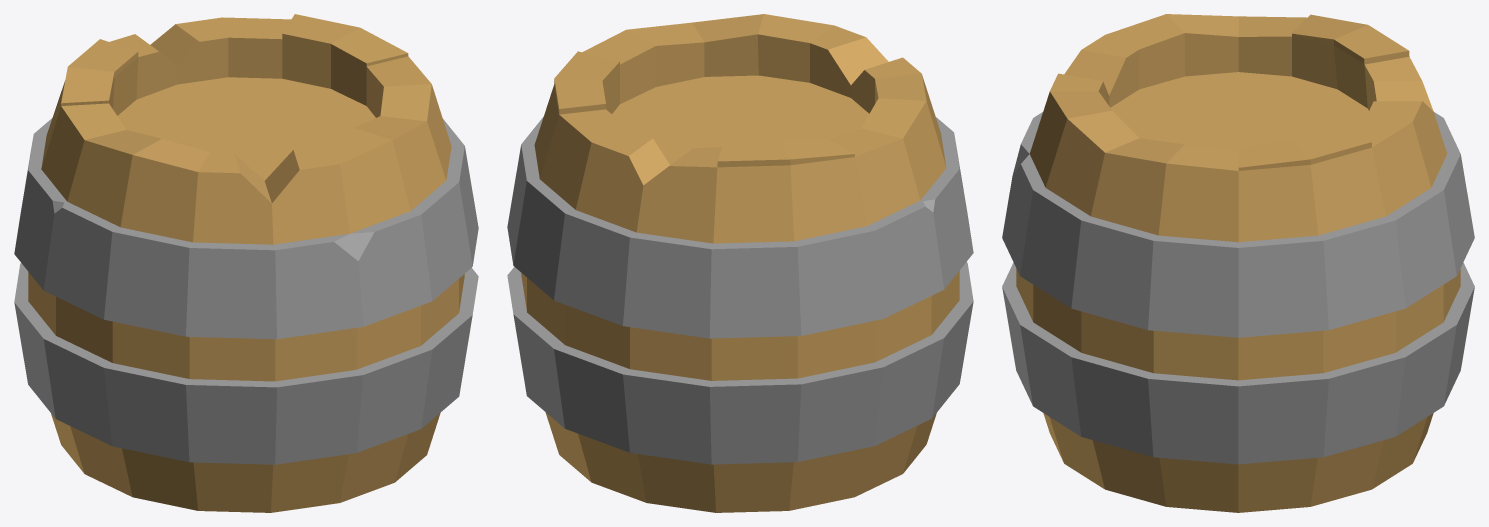
File: barrel.fbx
The picture shows the model from 3 angles, left to right: view 1: azimuth 30°, elevation 25°; view 2: azimuth 150°, elevation 25°; view 3: azimuth 270°, elevation 25°; orthographic projection.
Parts seen in each view (by area): view 1: Cylinder.001, Cylinder.002; view 2: Cylinder.001, Cylinder.002; view 3: Cylinder.001, Cylinder.002.
Part boxes in pixels (x1=…): Cylinder.001: x1=28, y1=14, x2=464, y2=512; Cylinder.002: x1=14, y1=118, x2=478, y2=464; Cylinder.001: x1=521, y1=14, x2=959, y2=512; Cylinder.002: x1=507, y1=117, x2=973, y2=464; Cylinder.001: x1=1016, y1=14, x2=1460, y2=512; Cylinder.002: x1=1002, y1=112, x2=1474, y2=464.
Size of the model in its own units: 251 by 206 by 251.
